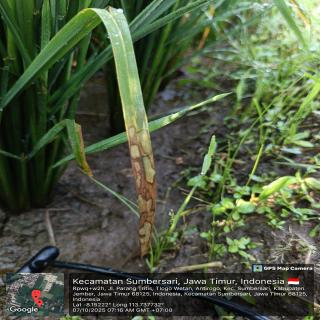Blast: (138, 130, 154, 159), (138, 192, 155, 218), (138, 220, 152, 249), (142, 156, 156, 184), (128, 144, 145, 162), (126, 125, 138, 143), (134, 172, 143, 189)
